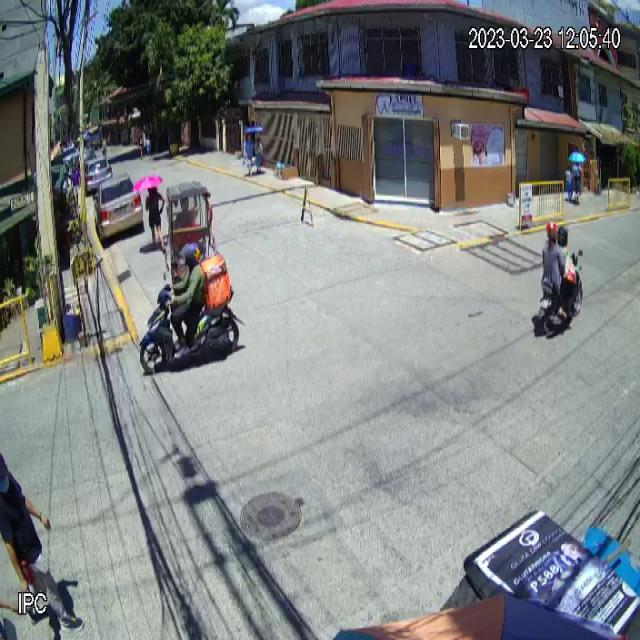Motorcycle: (139, 270, 246, 374)
